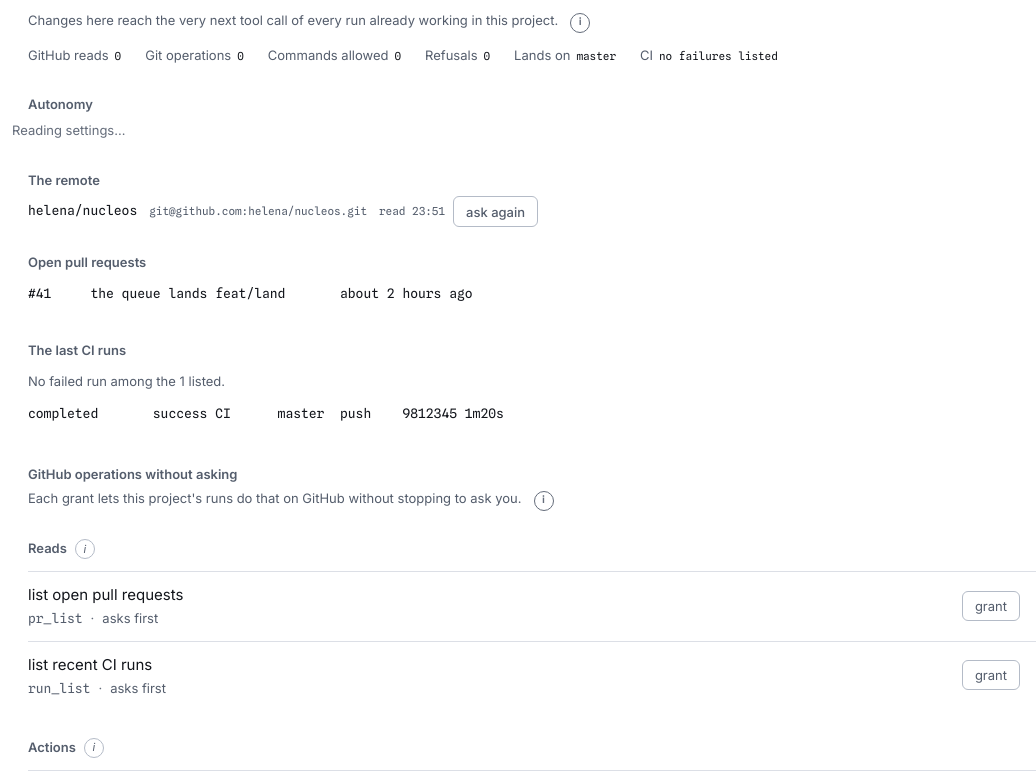
what runs on its own › puts a refusal inside the row that earned it
Click the button "grant" in the row of "list open pull requests": click(991, 606) [962,591,1020,621]
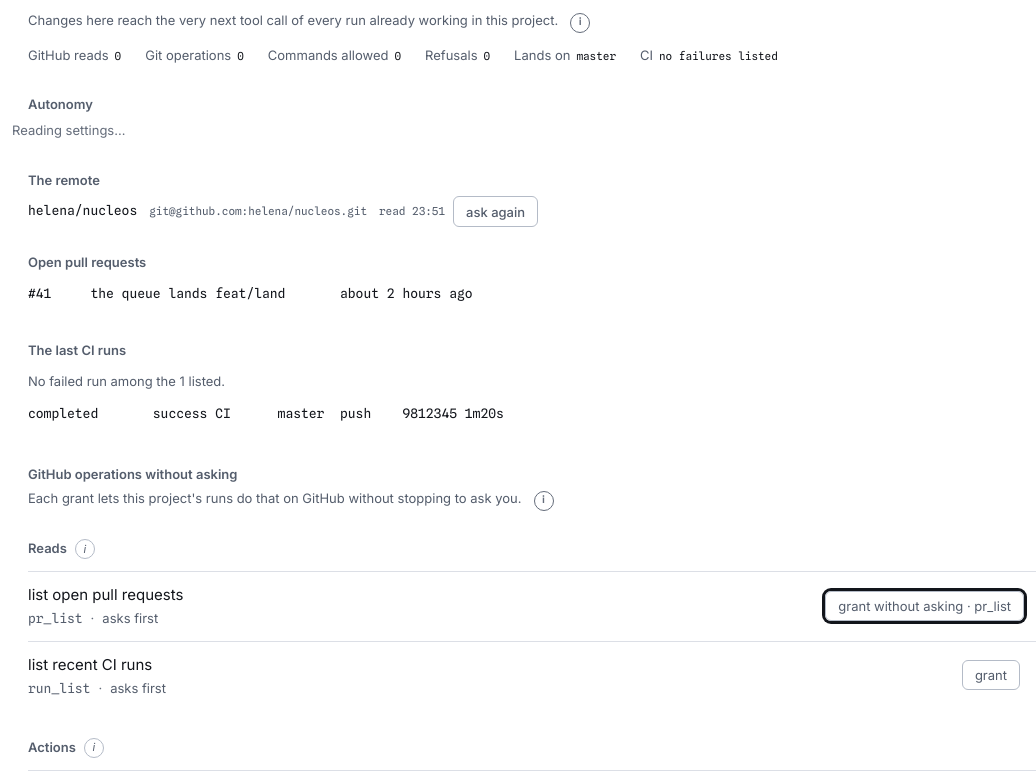
Click the button "grant without asking · pr_list": click(925, 606) [825,591,1024,621]
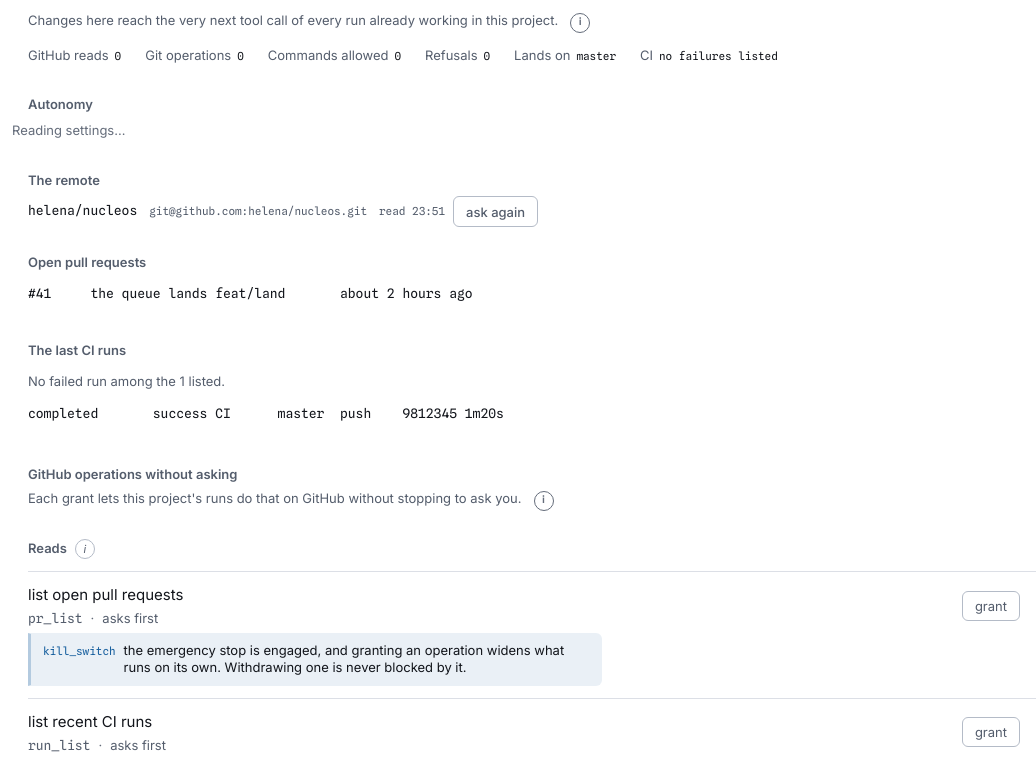
Check: the message with class "ui-note-refusal" is shown, box [28,633,602,686]
Check: the list item with aria-label "operation pr_list" shows "kill_switch", box [43,644,116,658]
